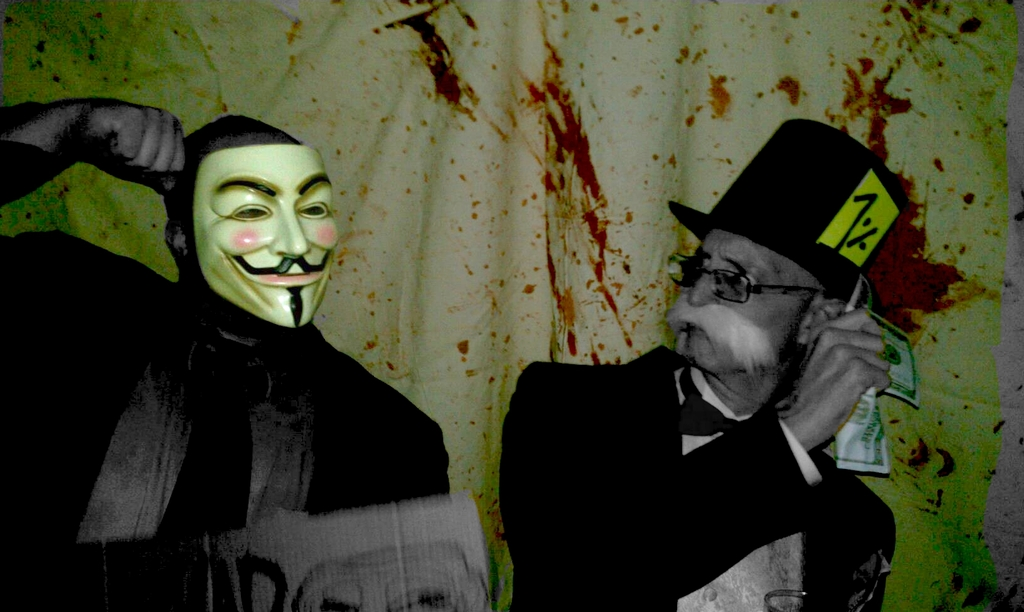face: (664, 206, 813, 384)
